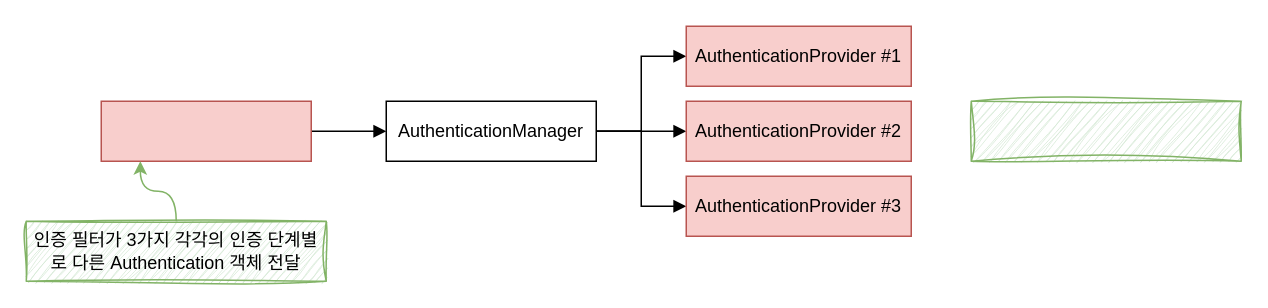
The diagram is 1268 pixels wide and 308 high, and some of its shapes have lost their labels. Each missing label, with the box of its shape:
AuthenticationFilter: (100, 100, 311, 161)
각 Authentication 객체에 대응하는 3개의 인증 공급자: (970, 100, 1241, 161)
